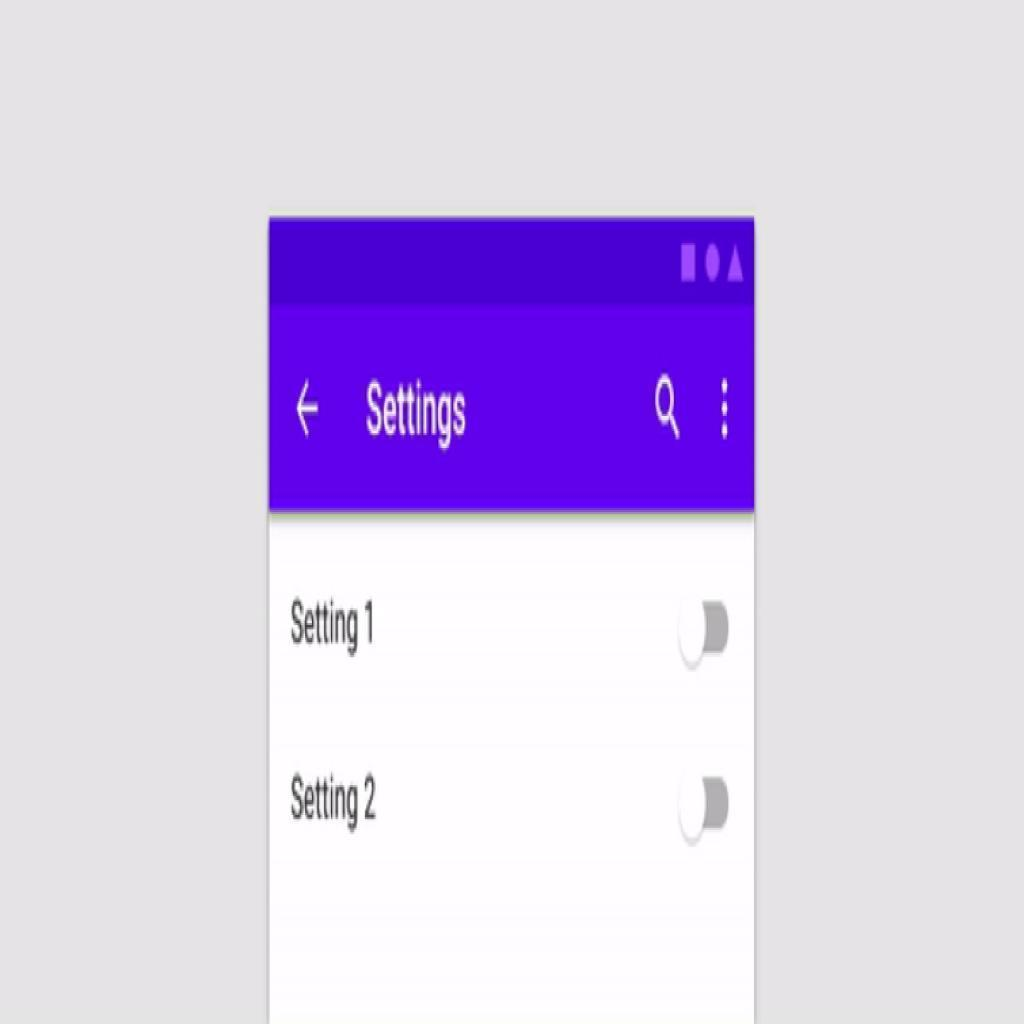icon: (288, 376, 332, 446), (647, 368, 687, 443), (711, 366, 742, 448)
switch: (677, 756, 736, 850), (673, 587, 730, 678)
